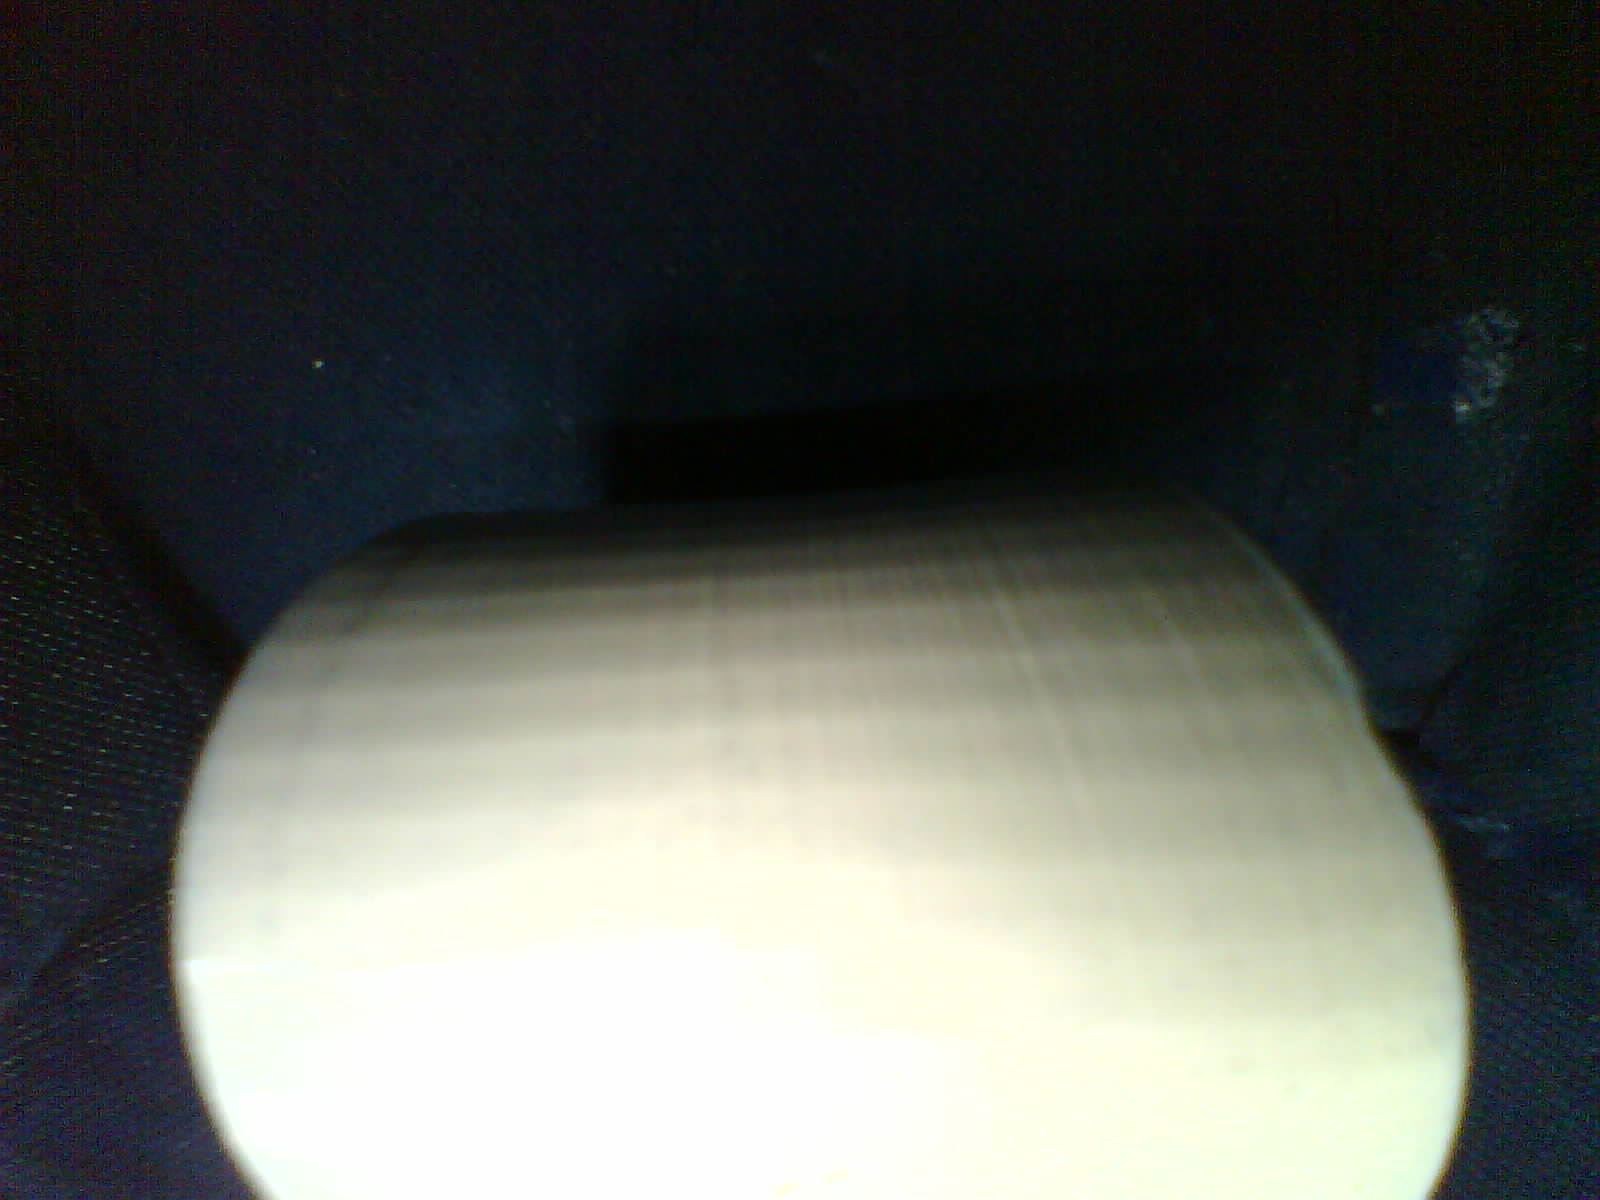cylinder-hard: (154, 500, 1499, 1200)
